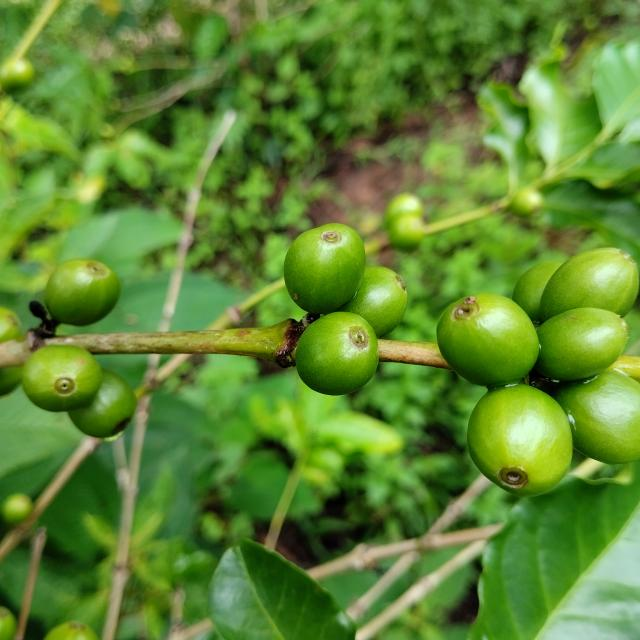green: (468, 383, 574, 497), (437, 293, 540, 388), (553, 370, 640, 465), (284, 223, 366, 314), (541, 248, 640, 321), (295, 312, 379, 396), (535, 308, 630, 381), (21, 345, 101, 412), (43, 258, 120, 326), (337, 266, 408, 338), (68, 369, 136, 439), (513, 262, 563, 323), (0, 306, 20, 343)
